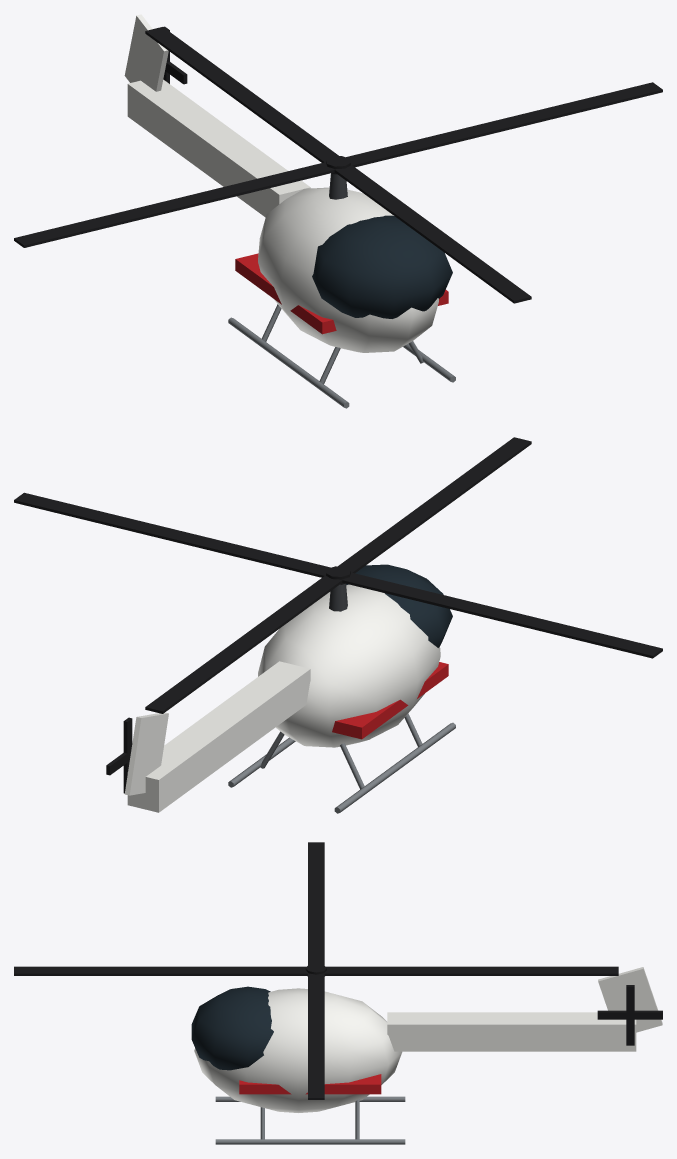
Rendered from helicopter.glb.
3 renders of one model, top to bottom at view 1: azimuth 30°, elevation 25°; view 2: azimuth 150°, elevation 25°; view 3: azimuth 270°, elevation 25°, orthographic. The views are drawn at different scales.
Parts seen in each view (by area): view 1: body, rotor_main; view 2: body, rotor_main, rotor_tail; view 3: body, rotor_main, rotor_tail.
Part boxes in pixels (<box>): body: <box>124,14,455,408</box>; rotor_main: <box>14,27,662,303</box>; body: <box>124,564,455,813</box>; rotor_main: <box>14,437,662,713</box>; rotor_tail: <box>106,717,132,793</box>; body: <box>191,967,662,1144</box>; rotor_main: <box>14,842,618,1099</box>; rotor_tail: <box>597,985,662,1045</box>.
Bounding box in the file's own units: 10.2 × 2.91 × 10.95.
